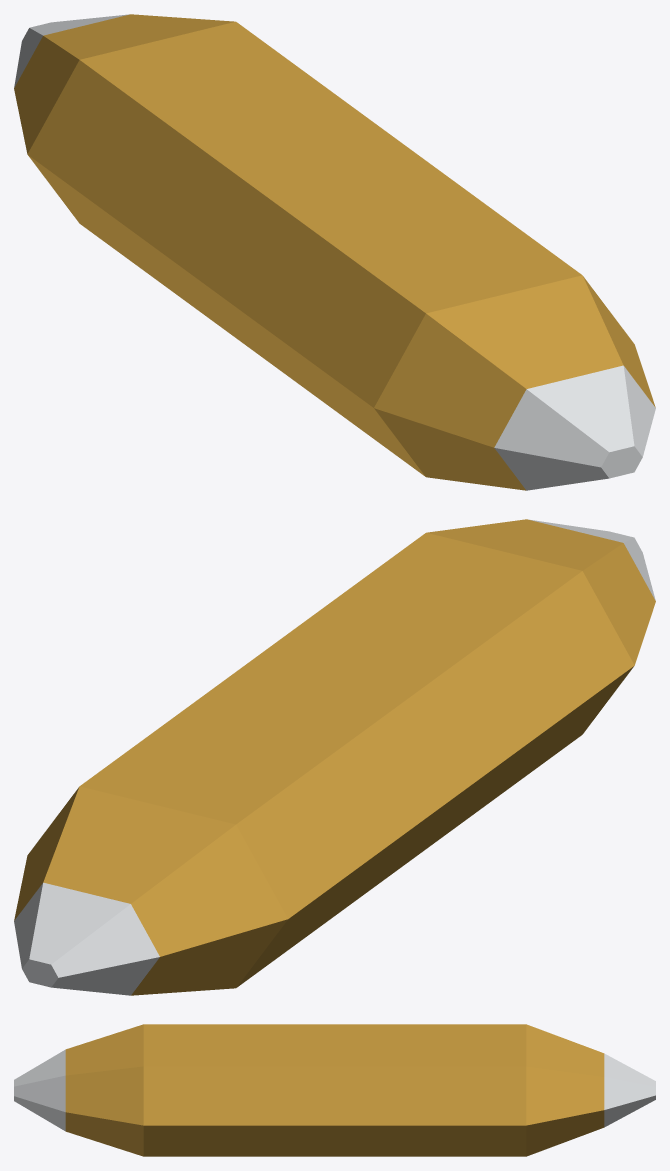
The model's file is e1_amp.obj.
The picture shows the model from 3 angles, top to bottom: view 1: azimuth 30°, elevation 25°; view 2: azimuth 150°, elevation 25°; view 3: azimuth 270°, elevation 25°; orthographic projection. The views are drawn at different scales.
Parts seen in each view (by area): view 1: e1_amp; view 2: e1_amp; view 3: e1_amp.
Boxes of the visible parts, x1=… form: e1_amp: x1=14, y1=14, x2=655, y2=490; e1_amp: x1=14, y1=519, x2=655, y2=995; e1_amp: x1=14, y1=1024, x2=655, y2=1156.
Size of the model in its own units: 1 by 0.6 by 3.86.
